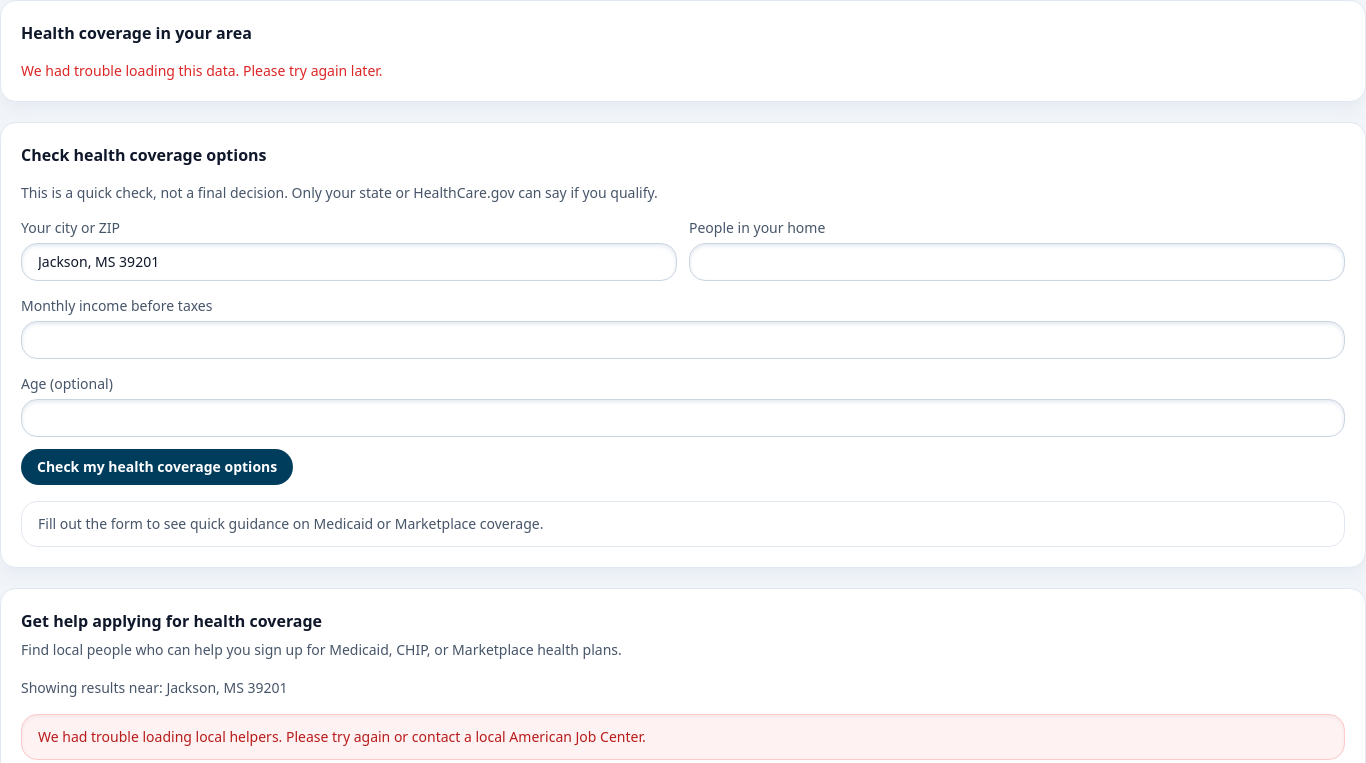
Test case: HealthCoveragePanel screener › shows an error when the API fails
Replace the text in the field labelled "Your city or ZIP" with "Jackson, MS" at {"x": 349, "y": 262}, box [21,243,677,281]
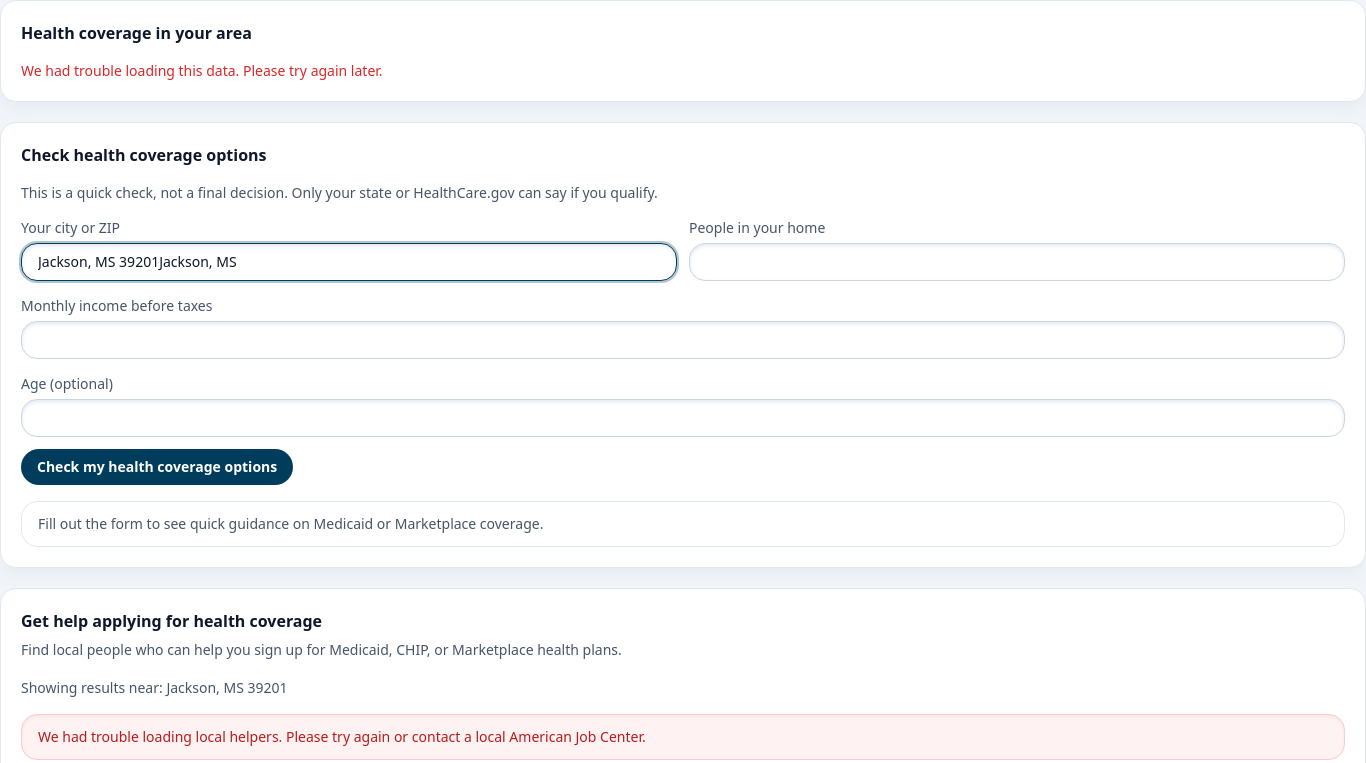
Type "2" into the number field labelled "People in your home" at {"x": 1017, "y": 262}, box [689,243,1345,281]
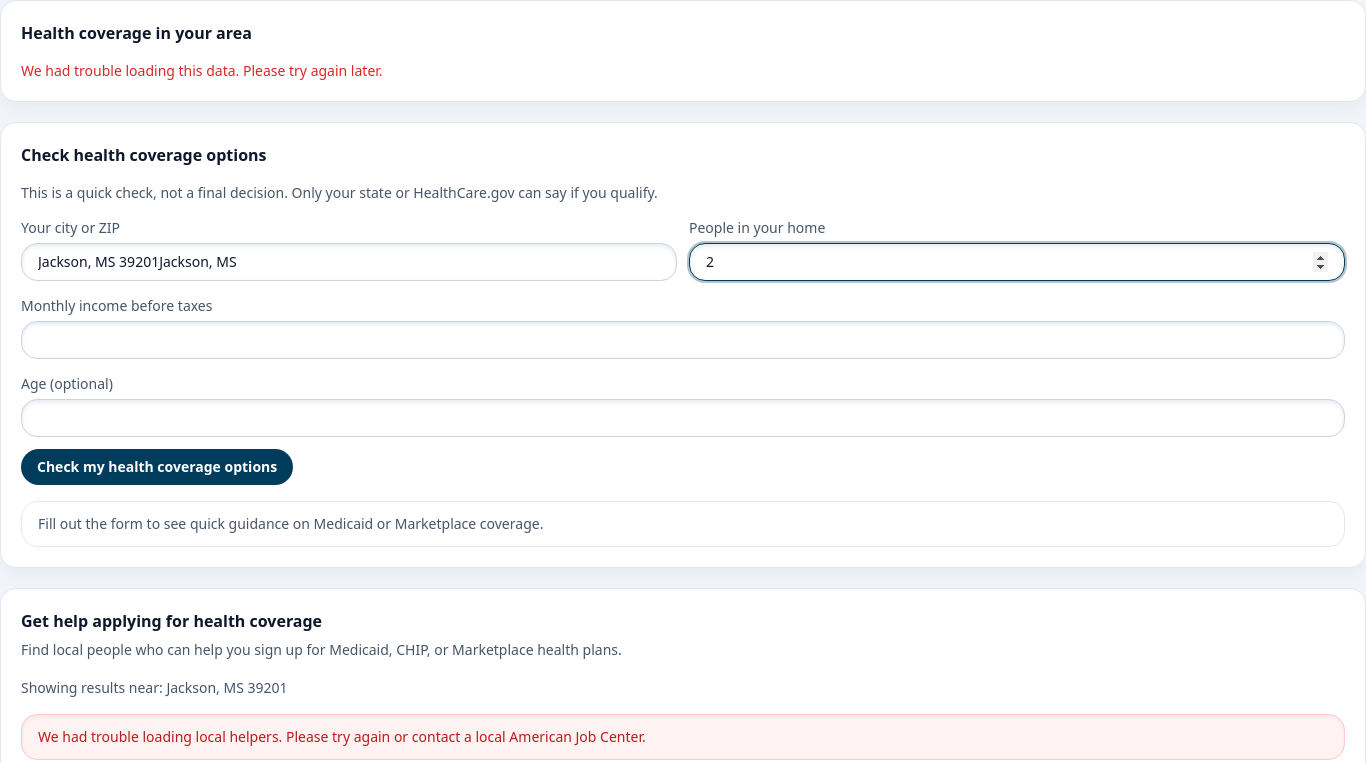
Type "1000" into the number field labelled "Monthly income before taxes" at {"x": 683, "y": 340}, box [21,321,1345,359]
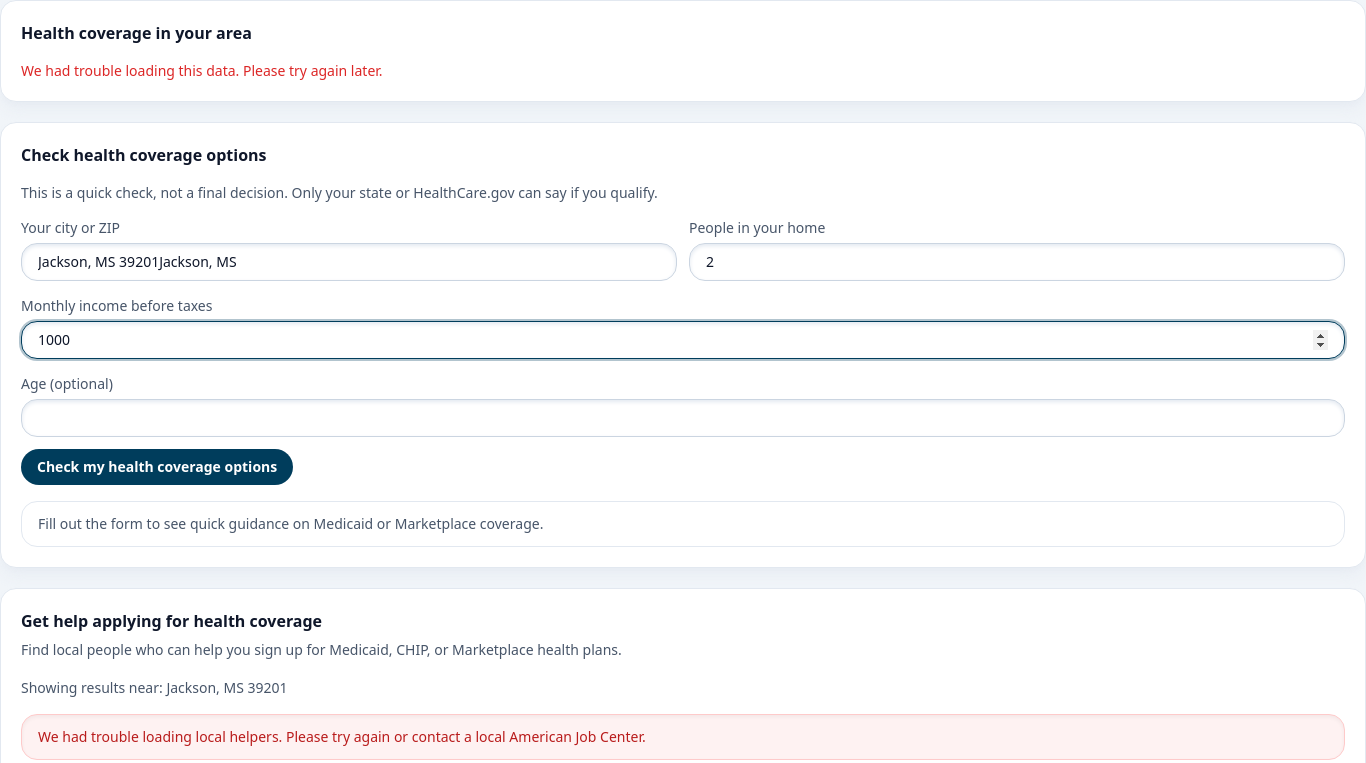
Click the button "Check my health coverage options" at {"x": 157, "y": 467}, box [21,449,293,485]
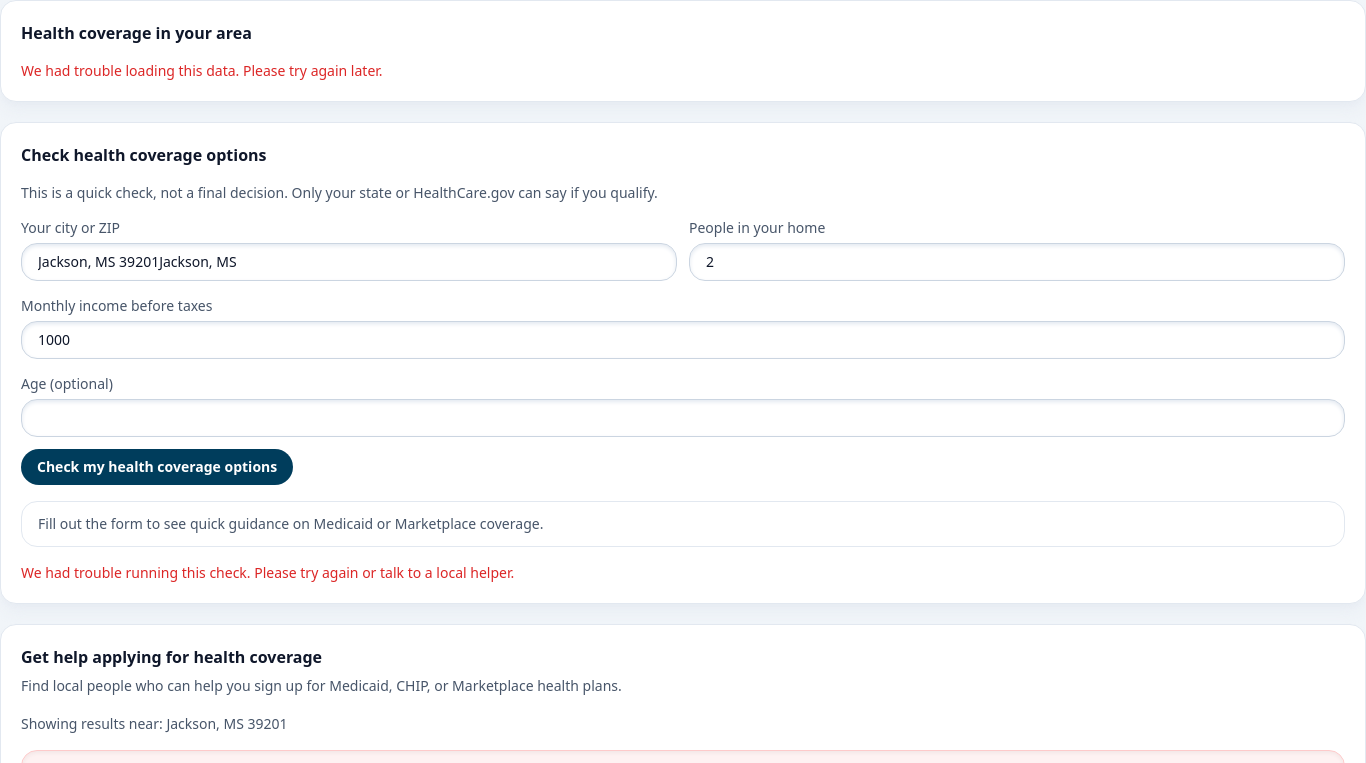
Check: the text "We had trouble running this check" is shown, box [21,563,514,582]
